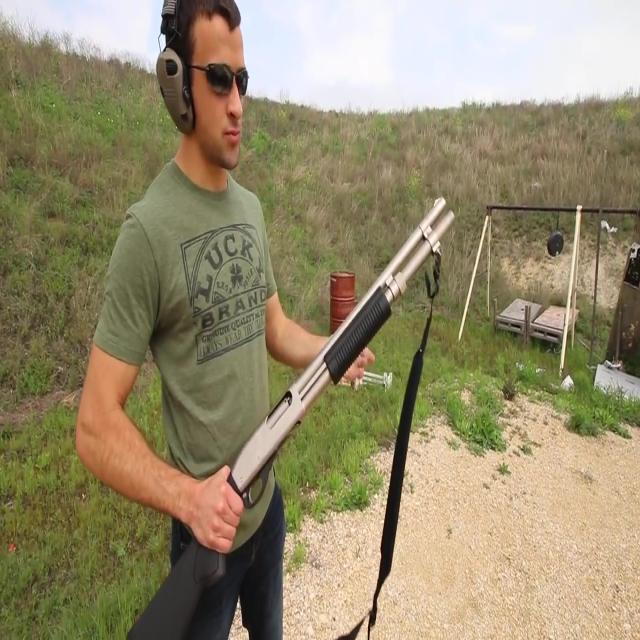Weapon: (36, 175, 470, 640)
